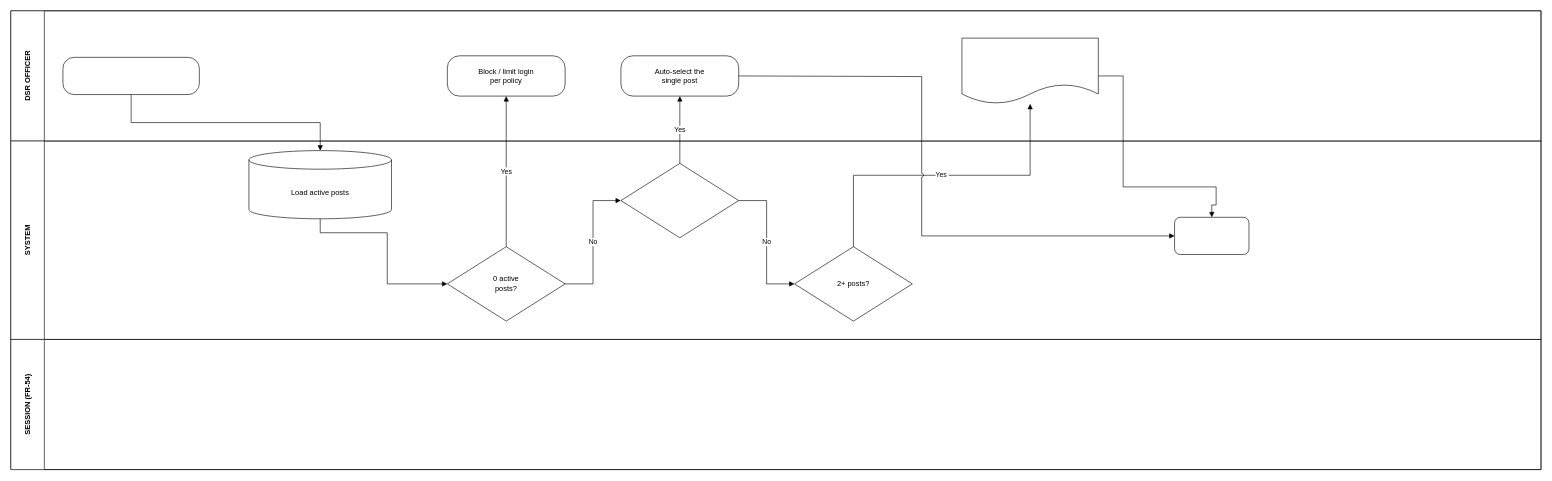
This 1552x481 diagram has some shape labels left out. The shapes that lost their labels are listed below. From the top down, each one's box as (x1, y1, x2, y2) in pixels, then its label:
(62, 57, 199, 95): authentication
(961, 38, 1098, 104): Mandatory list: Role — Post Name — Office Name (Office Code)
(620, 163, 739, 238): Exactly 1 post?
(1174, 217, 1249, 255): Landing Home Page
